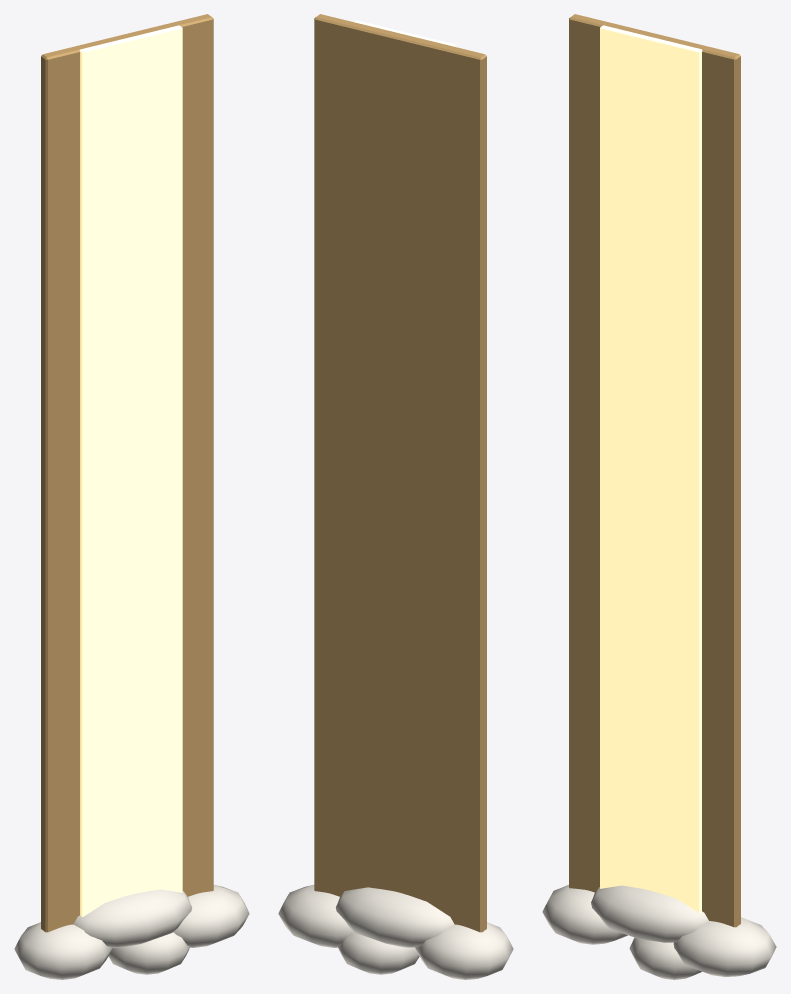
Rendered from div3_waterfall.glb.
The picture shows the model from 3 angles, left to right: view 1: azimuth 30°, elevation 25°; view 2: azimuth 150°, elevation 25°; view 3: azimuth 330°, elevation 25°; orthographic projection.
Visible parts, largest first — view 1: div3_waterfall__warm-luminous, div3_waterfall__satin-honey-brass, div3_waterfall__cloud-cream; view 2: div3_waterfall__satin-honey-brass, div3_waterfall__cloud-cream; view 3: div3_waterfall__warm-luminous, div3_waterfall__satin-honey-brass, div3_waterfall__cloud-cream.
Part boxes in pixels (x1,y1,x2,y2): div3_waterfall__warm-luminous: (79,25,182,916); div3_waterfall__satin-honey-brass: (41,14,213,932); div3_waterfall__cloud-cream: (14,885,249,979); div3_waterfall__satin-honey-brass: (314,14,486,932); div3_waterfall__cloud-cream: (278,885,513,979); div3_waterfall__warm-luminous: (600,25,702,912); div3_waterfall__satin-honey-brass: (569,14,740,927); div3_waterfall__cloud-cream: (542,885,776,979).
Bounding box in the file's own units: 7.36 × 29.28 × 2.56.
